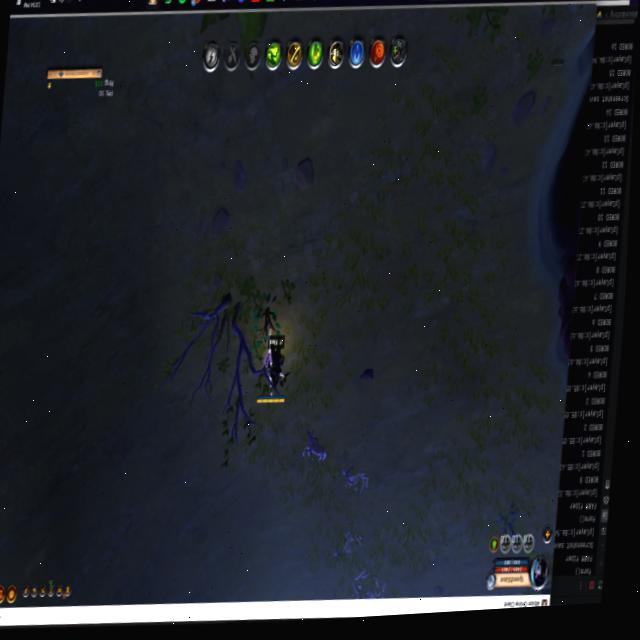mob: (299, 425, 330, 469)
red: (256, 331, 291, 406)
